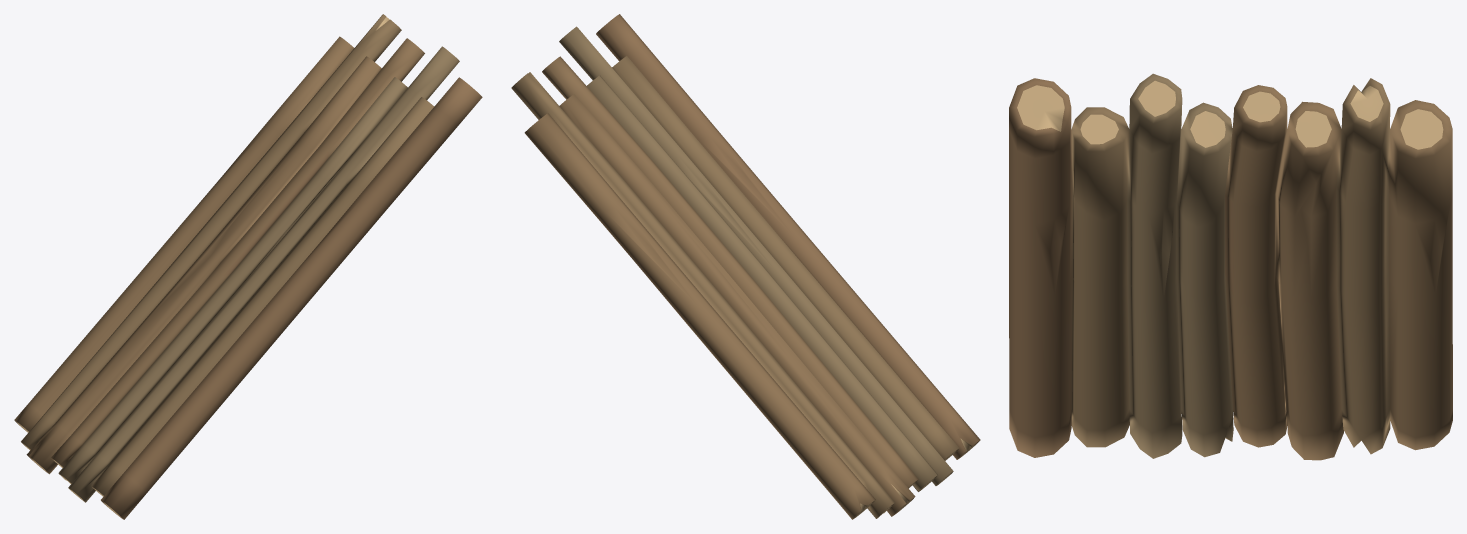
The model's file is rpgpp_ag_roof_01b_6x3x3_half.fbx.
3 renders of one model, left to right at view 1: azimuth 30°, elevation 25°; view 2: azimuth 150°, elevation 25°; view 3: azimuth 270°, elevation 25°, orthographic. The views are drawn at different scales.
Parts seen in each view (by area): view 1: rpgpp_ag_roof_01b_6x3x3_half; view 2: rpgpp_ag_roof_01b_6x3x3_half; view 3: rpgpp_ag_roof_01b_6x3x3_half.
Part boxes in pixels (bbox=[...]): rpgpp_ag_roof_01b_6x3x3_half: bbox=[14, 14, 482, 519]; rpgpp_ag_roof_01b_6x3x3_half: bbox=[511, 14, 980, 519]; rpgpp_ag_roof_01b_6x3x3_half: bbox=[1009, 73, 1452, 460].
Size of the model in its own units: 6.08 by 5.49 by 3.
